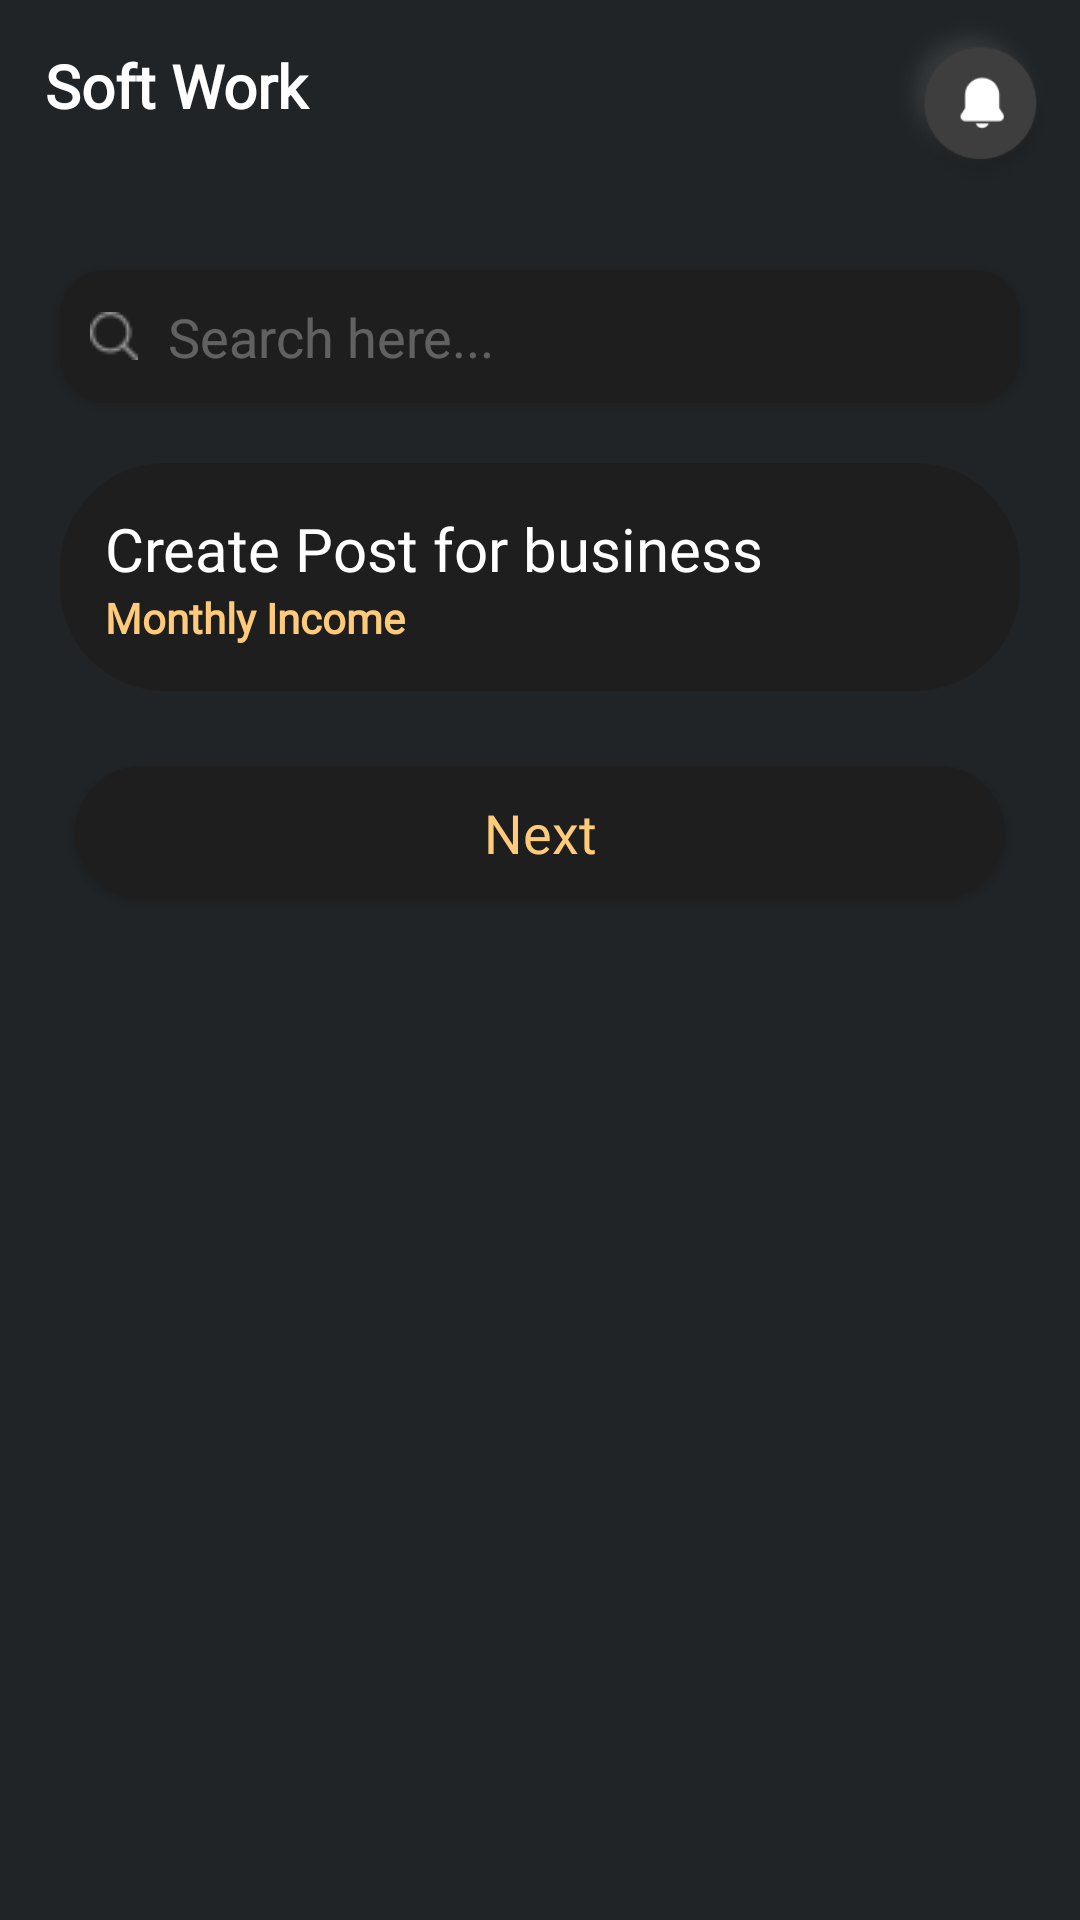

Screen size 1080px×1920px. Icon name, then its box in pixels as box(x1, y1, x2, y2):
notification: box(925, 48, 1036, 159)
